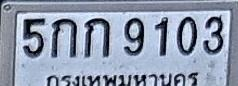0: (176, 16, 197, 55)
1: (154, 16, 168, 56)
3: (203, 16, 223, 54)
5: (22, 18, 46, 58)
9: (124, 17, 144, 55)
A01: (51, 18, 77, 58), (84, 17, 110, 57)
BKK: (42, 70, 203, 86)
